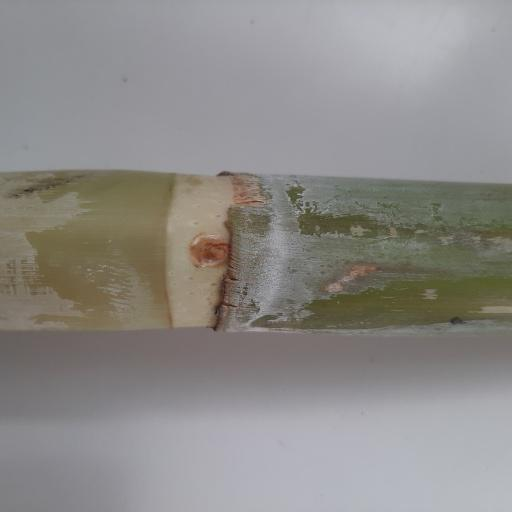Damage_Bud: (188, 236, 232, 268)
